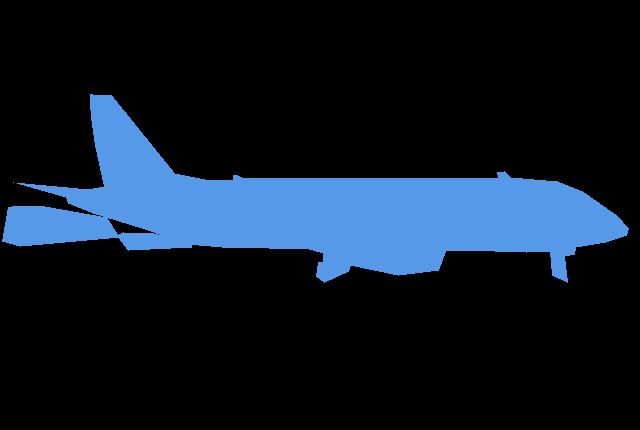Airplane: (13, 94, 628, 282), (2, 206, 120, 246), (118, 232, 192, 251)
